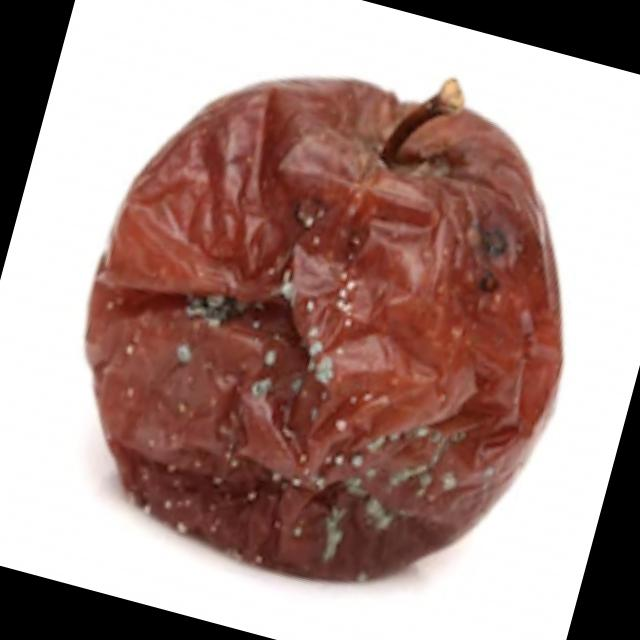rotten_apple: (33, 10, 630, 632)
